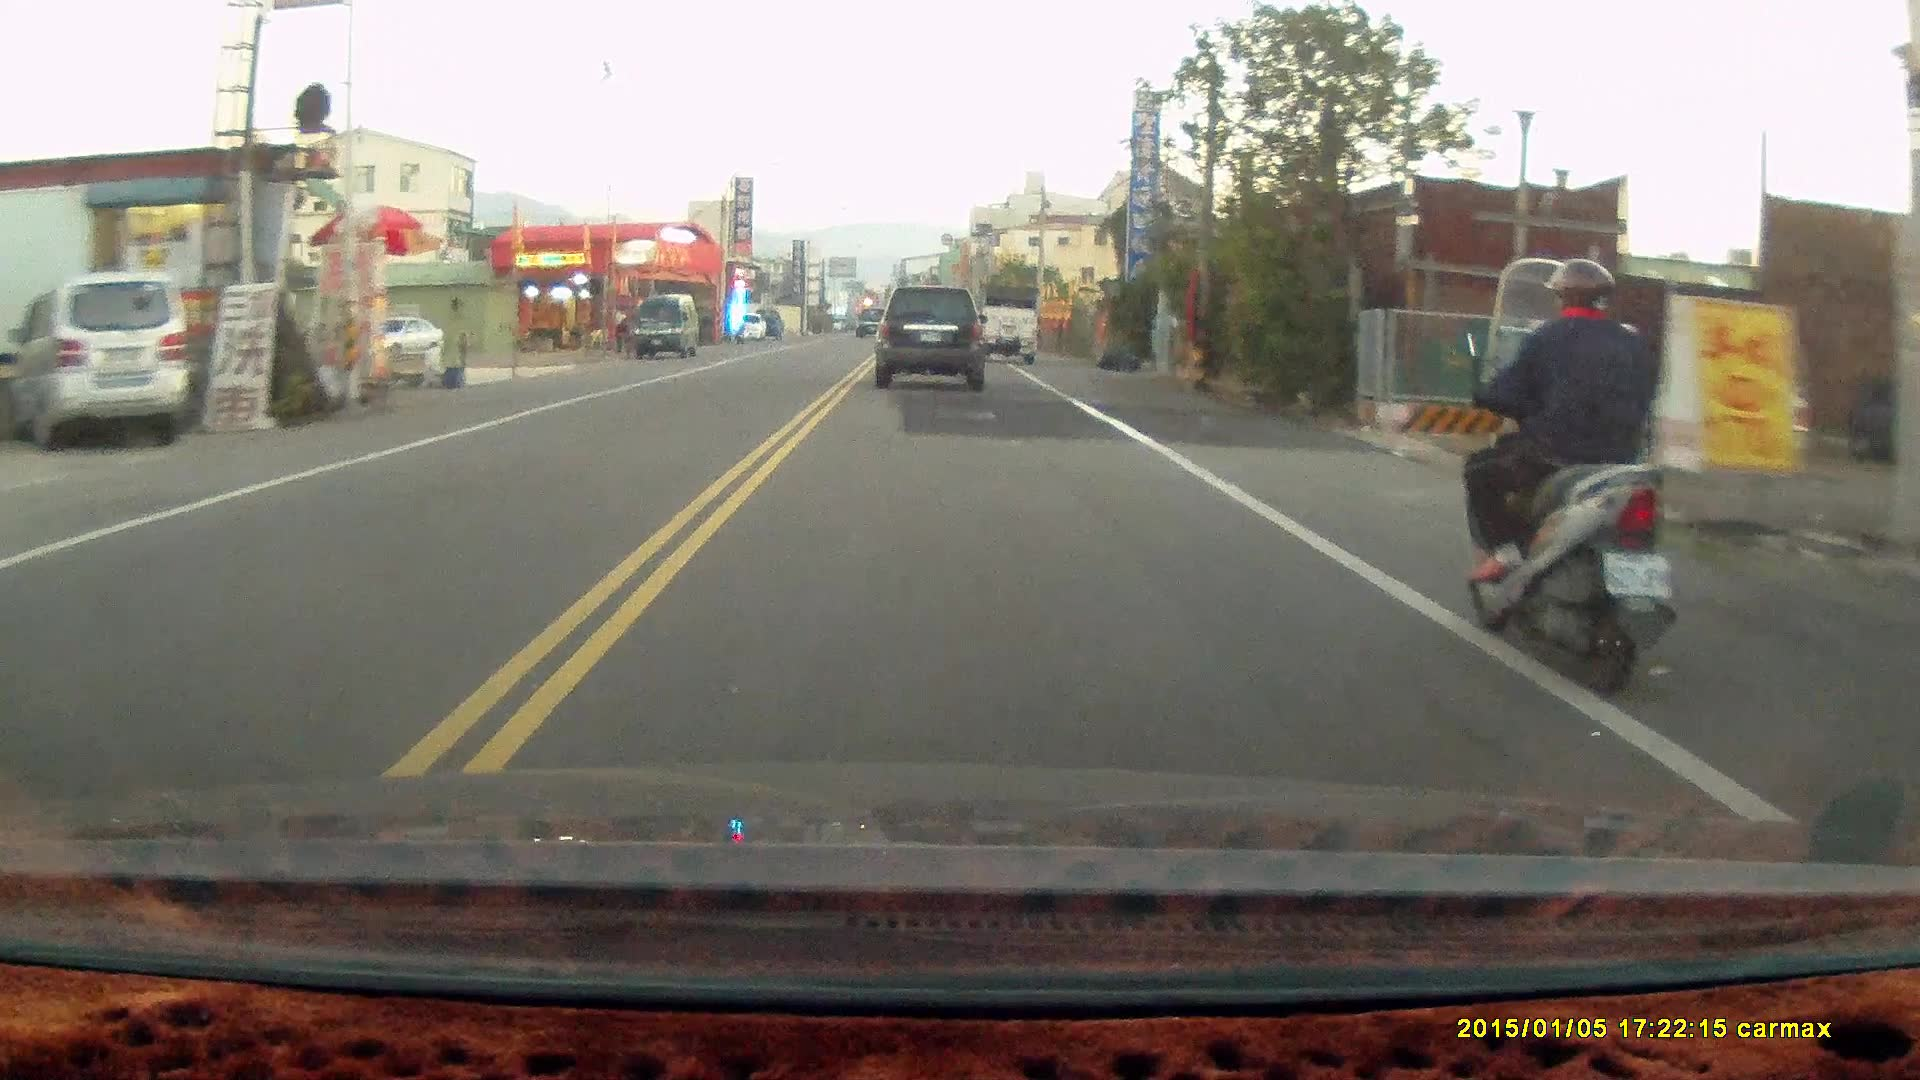rider: (1454, 259, 1677, 706)
vehicle: (19, 269, 196, 448), (877, 280, 994, 390), (979, 283, 1042, 364), (634, 294, 700, 360)
